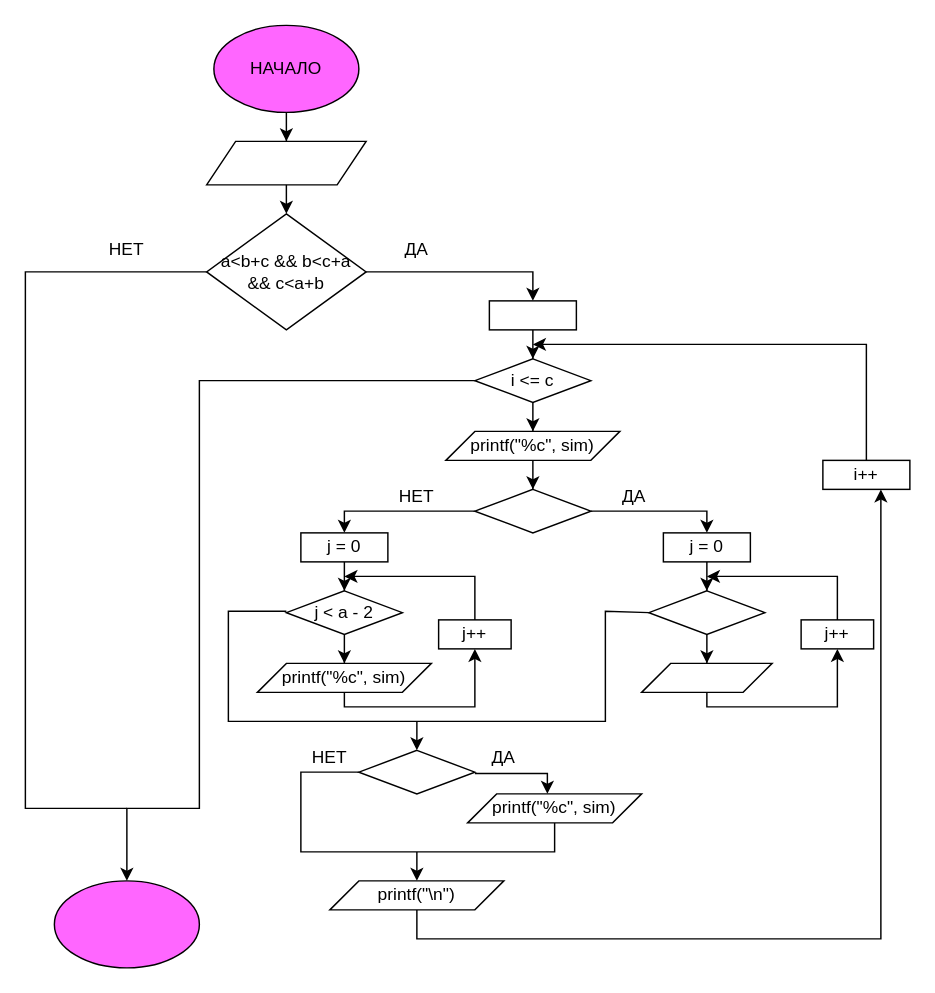
This 935x993 diagram has some shape labels left out. The shapes that lost their labels are listed below. From the top down, each one's centre as x and y in pixels, then its label:
[285,162]: sim, a, b, c
[532,314]: i = 0
[532,510]: i < c
[706,611]: j < i * 2 - 1
[706,677]: printf("*")
[416,771]: i > 0
[126,923]: КОНЕЦ
